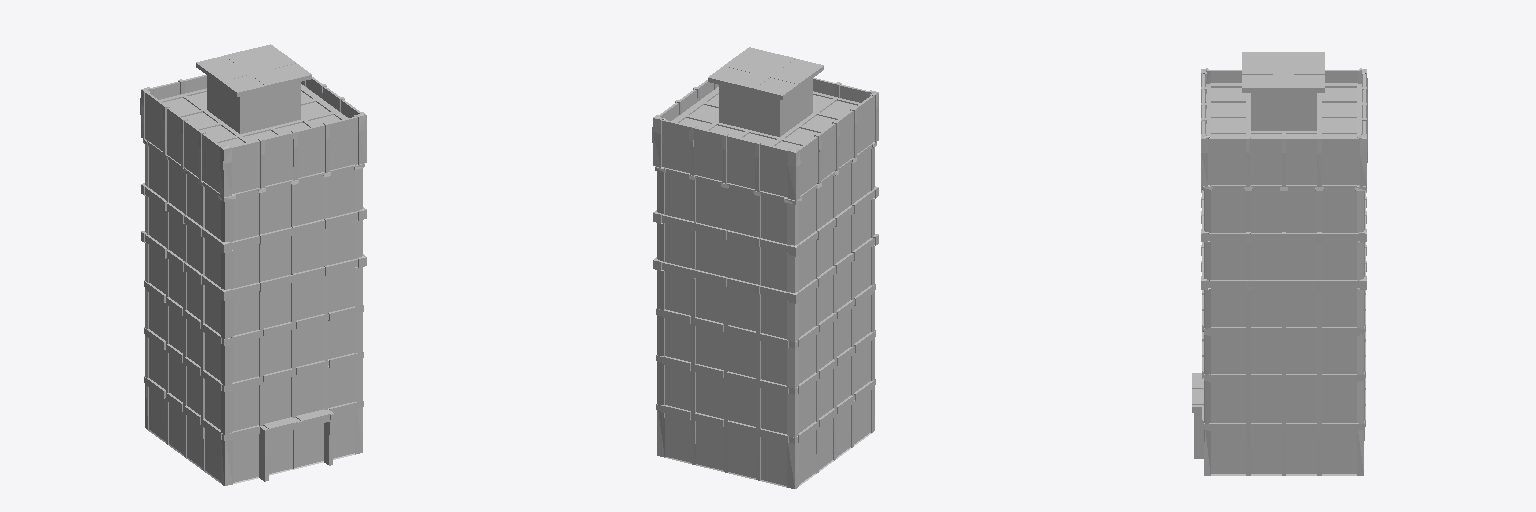
The model's file is building3.obj.
3 views of the same model, side by side, from view 1: azimuth 30°, elevation 25°; view 2: azimuth 150°, elevation 25°; view 3: azimuth 270°, elevation 25° (orthographic).
Parts seen in each view (by area): view 1: Cube_Cube.002; view 2: Cube_Cube.002; view 3: Cube_Cube.002.
Boxes of the visible parts, x1=… form: Cube_Cube.002: x1=140, y1=44, x2=366, y2=485; Cube_Cube.002: x1=652, y1=47, x2=878, y2=488; Cube_Cube.002: x1=1192, y1=52, x2=1367, y2=475.
Size of the model in its own units: 8.58 by 21.05 by 9.01.